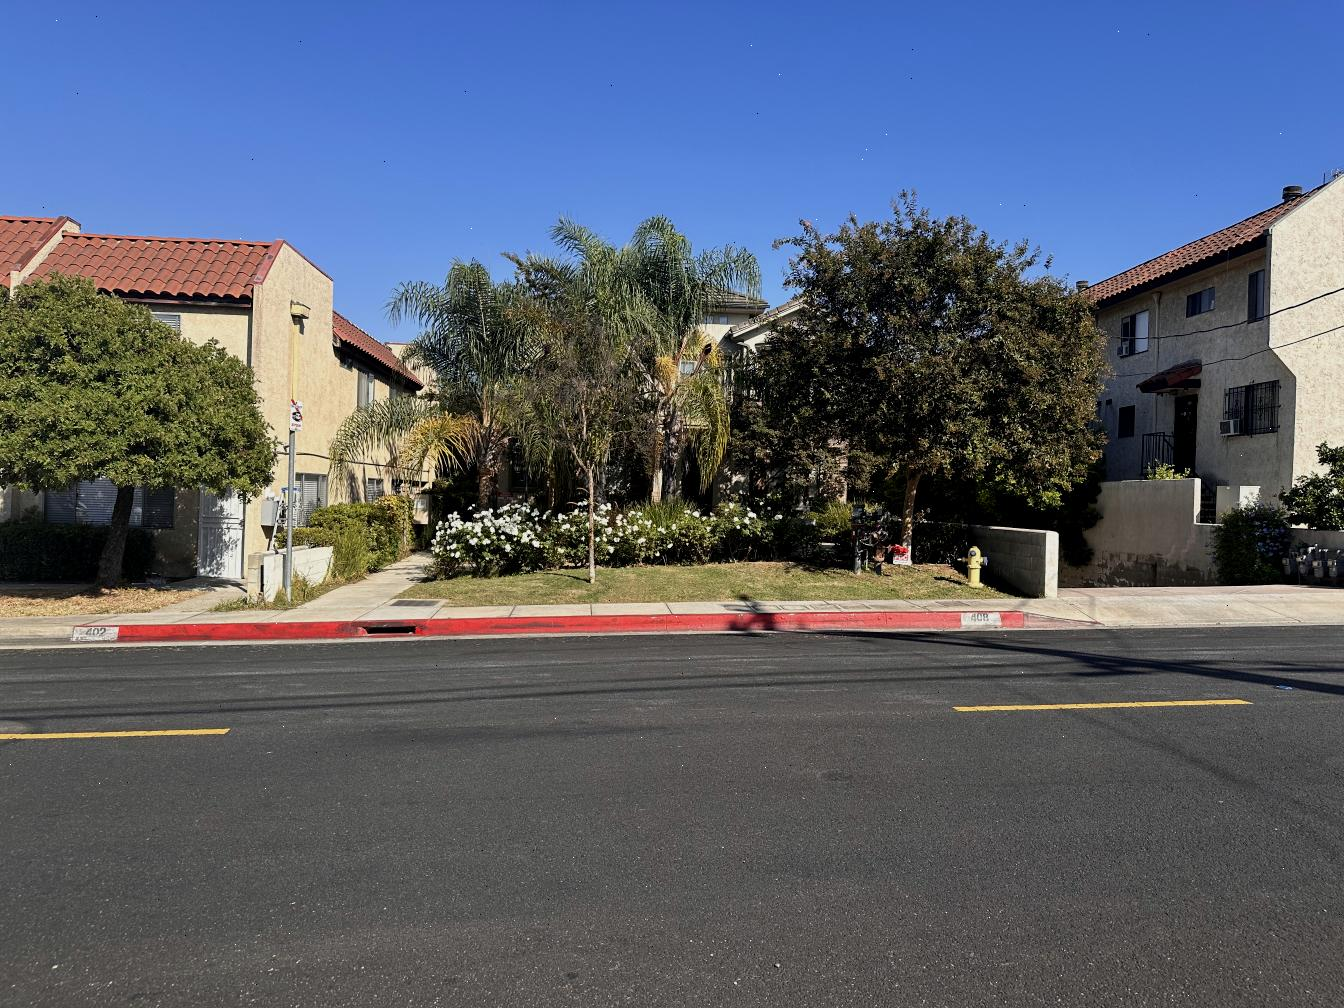curbs-laRr: (0, 626, 72, 645)
